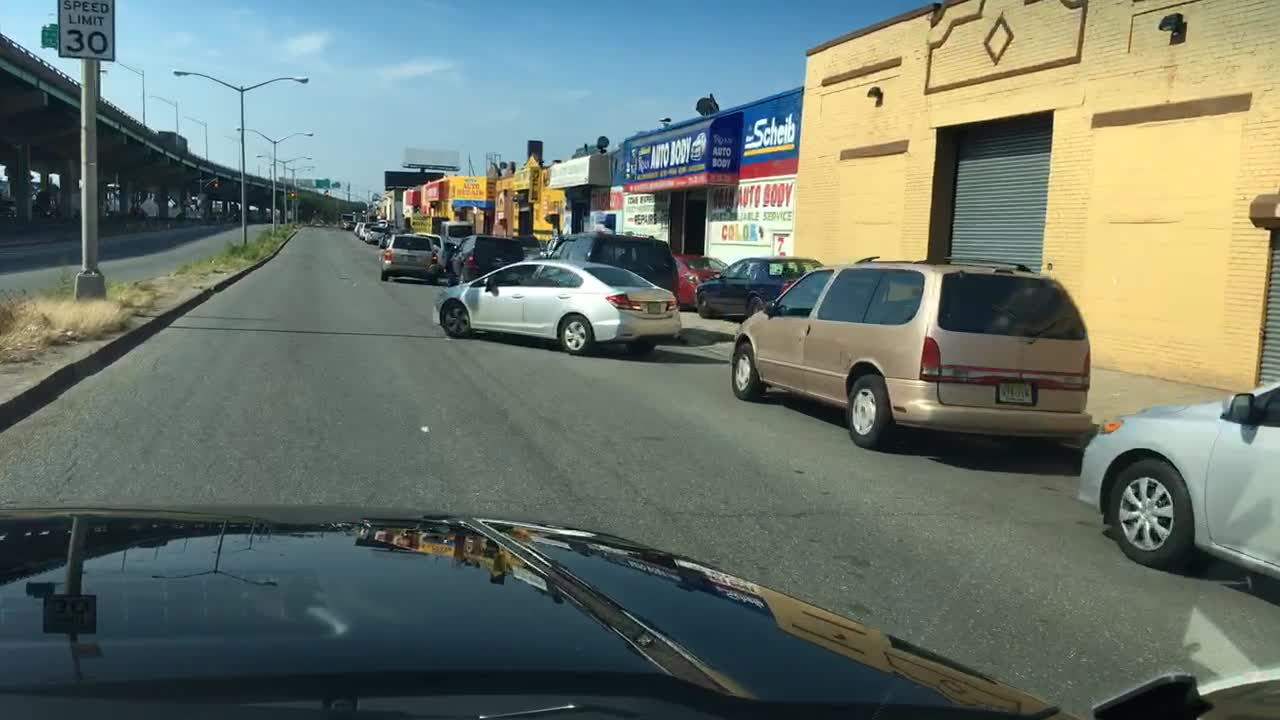car: (730, 257, 1091, 451), (1081, 383, 1277, 577), (436, 261, 679, 355), (544, 233, 679, 296), (695, 255, 819, 320), (445, 235, 523, 289), (674, 252, 728, 311), (378, 233, 436, 280), (415, 229, 448, 271), (439, 219, 476, 250), (511, 229, 544, 262), (361, 226, 389, 243), (1, 200, 20, 221), (376, 233, 397, 250), (357, 222, 378, 238), (34, 205, 57, 219), (205, 208, 219, 226), (224, 212, 240, 226), (336, 219, 357, 229), (104, 208, 119, 221), (352, 221, 364, 236), (308, 219, 322, 229), (321, 219, 336, 228)
traffic light: (212, 173, 223, 191), (289, 187, 296, 201)
traffic sign: (58, 0, 114, 60), (41, 23, 58, 51), (139, 198, 154, 217), (315, 179, 331, 191), (294, 179, 312, 187), (331, 177, 341, 191)
